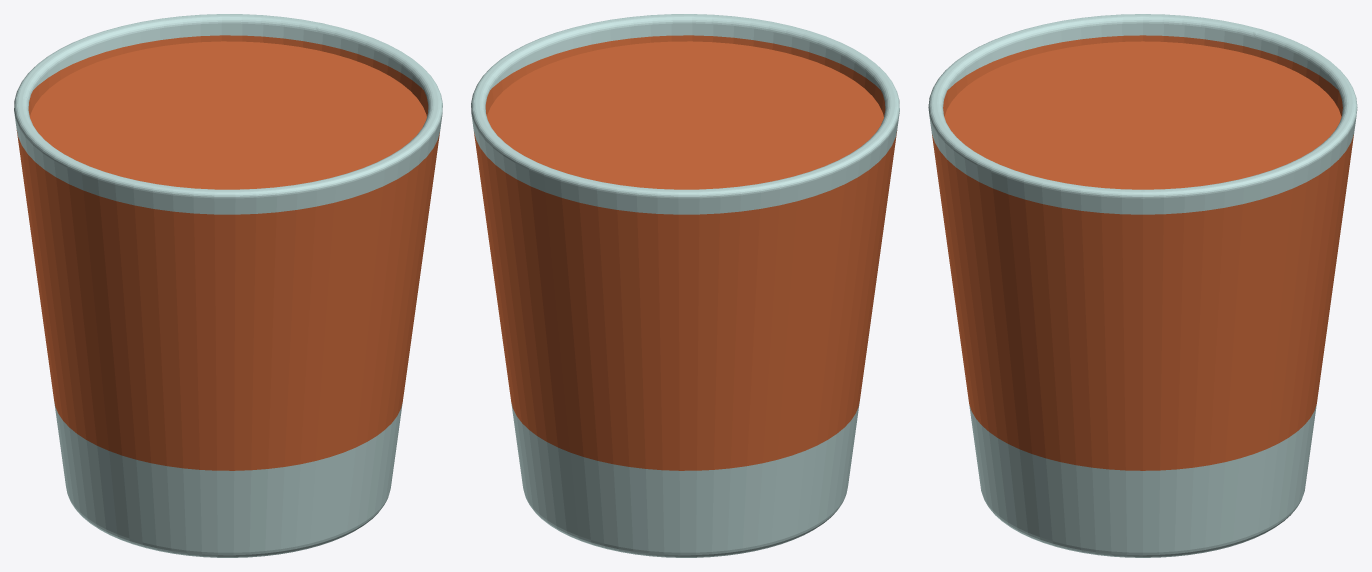
Rendered from shot_glass.glb.
3 renders of one model, left to right at view 1: azimuth 30°, elevation 25°; view 2: azimuth 150°, elevation 25°; view 3: azimuth 270°, elevation 25°, orthographic.
Visible parts, largest first — view 1: glass, alcohol, glass1, glass2; view 2: glass, alcohol, glass1, glass2; view 3: glass, alcohol, glass1, glass2.
Boxes of the visible parts, x1=… form: glass: x1=16, y1=35, x2=439, y2=470; alcohol: x1=30, y1=41, x2=426, y2=189; glass1: x1=54, y1=402, x2=402, y2=557; glass2: x1=14, y1=14, x2=442, y2=214; glass: x1=474, y1=35, x2=897, y2=470; alcohol: x1=487, y1=41, x2=883, y2=189; glass1: x1=511, y1=402, x2=859, y2=557; glass2: x1=471, y1=14, x2=899, y2=214; glass: x1=932, y1=35, x2=1353, y2=470; alcohol: x1=944, y1=41, x2=1341, y2=189; glass1: x1=969, y1=405, x2=1316, y2=557; glass2: x1=928, y1=14, x2=1357, y2=214.
Size of the model in its own units: 1.5 by 1.5 by 1.5.
